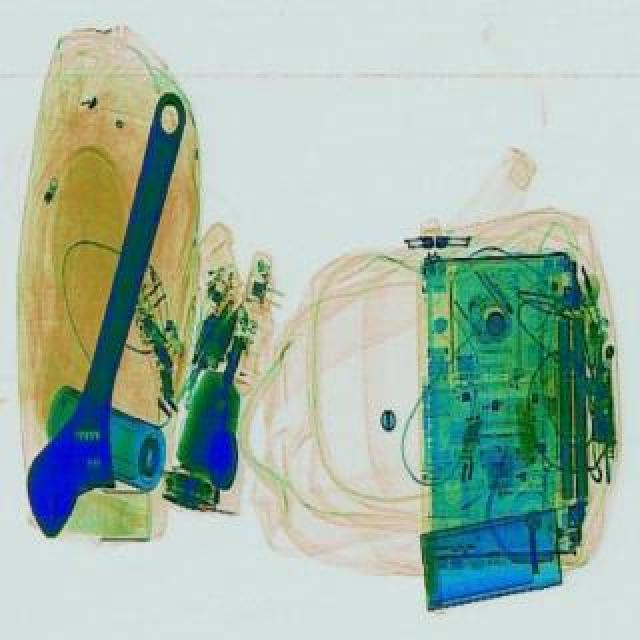scissors: (12, 82, 216, 542)
